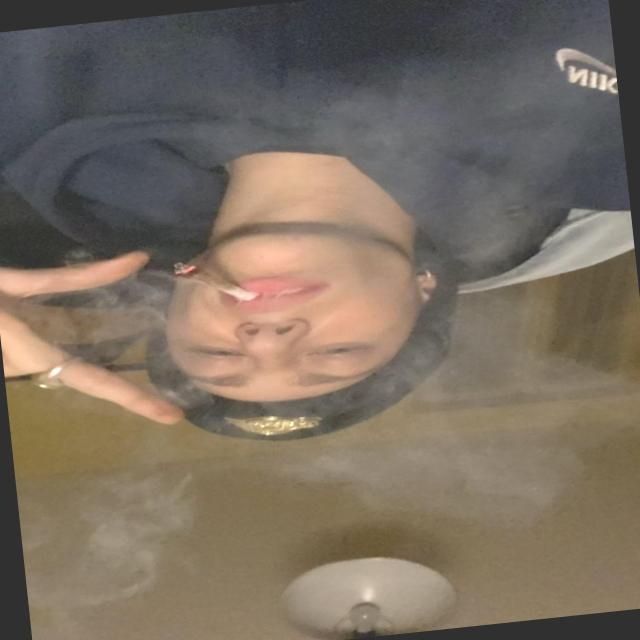smoke: (135, 238, 273, 326)
